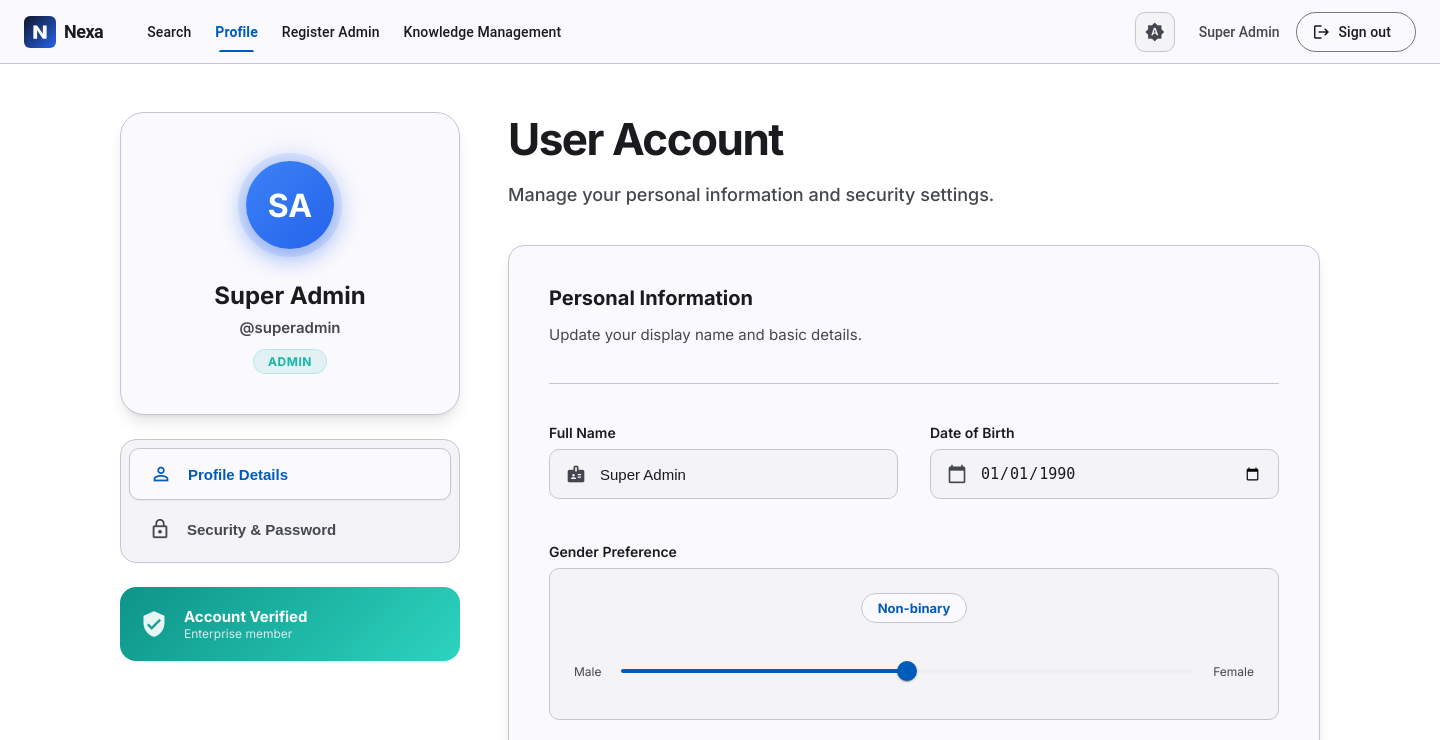
Profile Management › mismatched new and confirm passwords shows a validation error
Click the button "Security & Password". click: (290, 529)
box: [129,504,451,554]
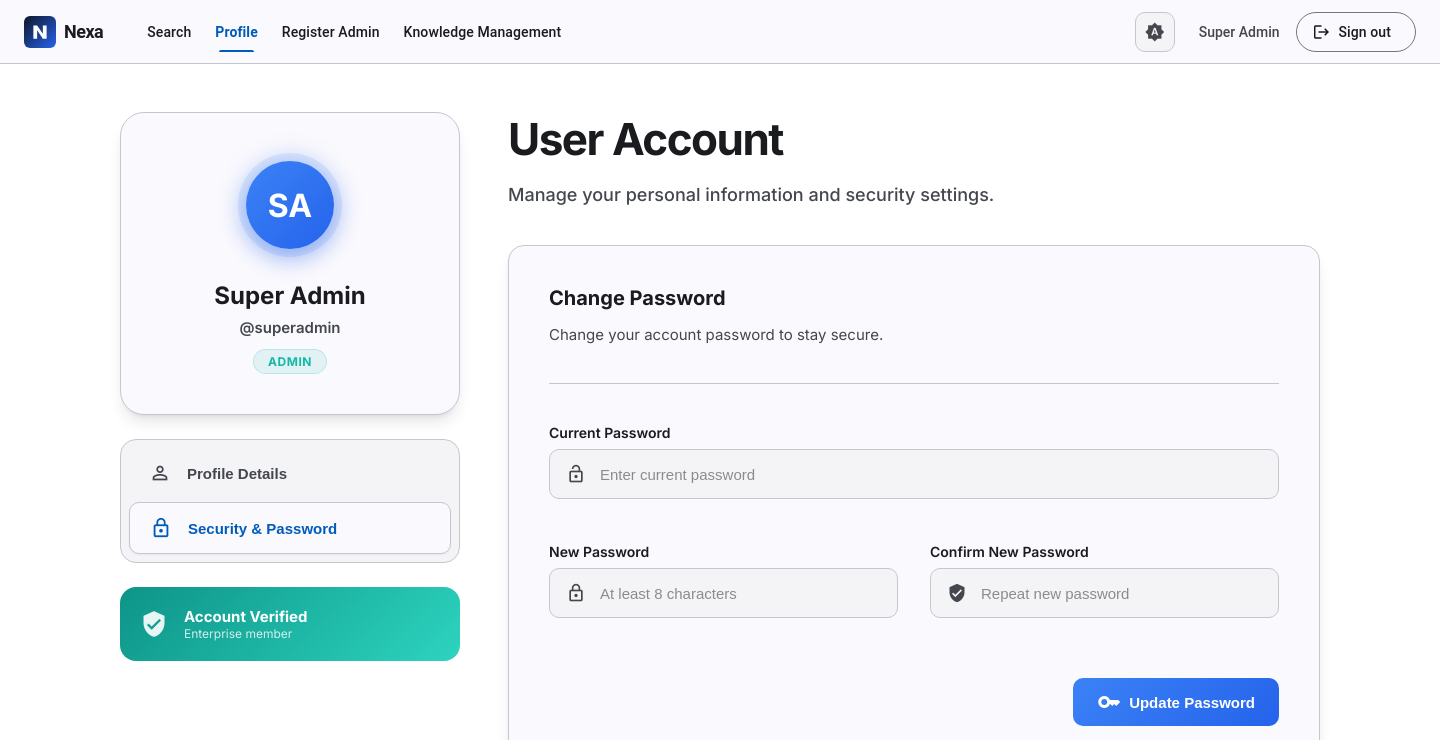
Type "superadmin123" into the password field with id "s-current". click: (930, 474)
box: [598,450,1262,498]
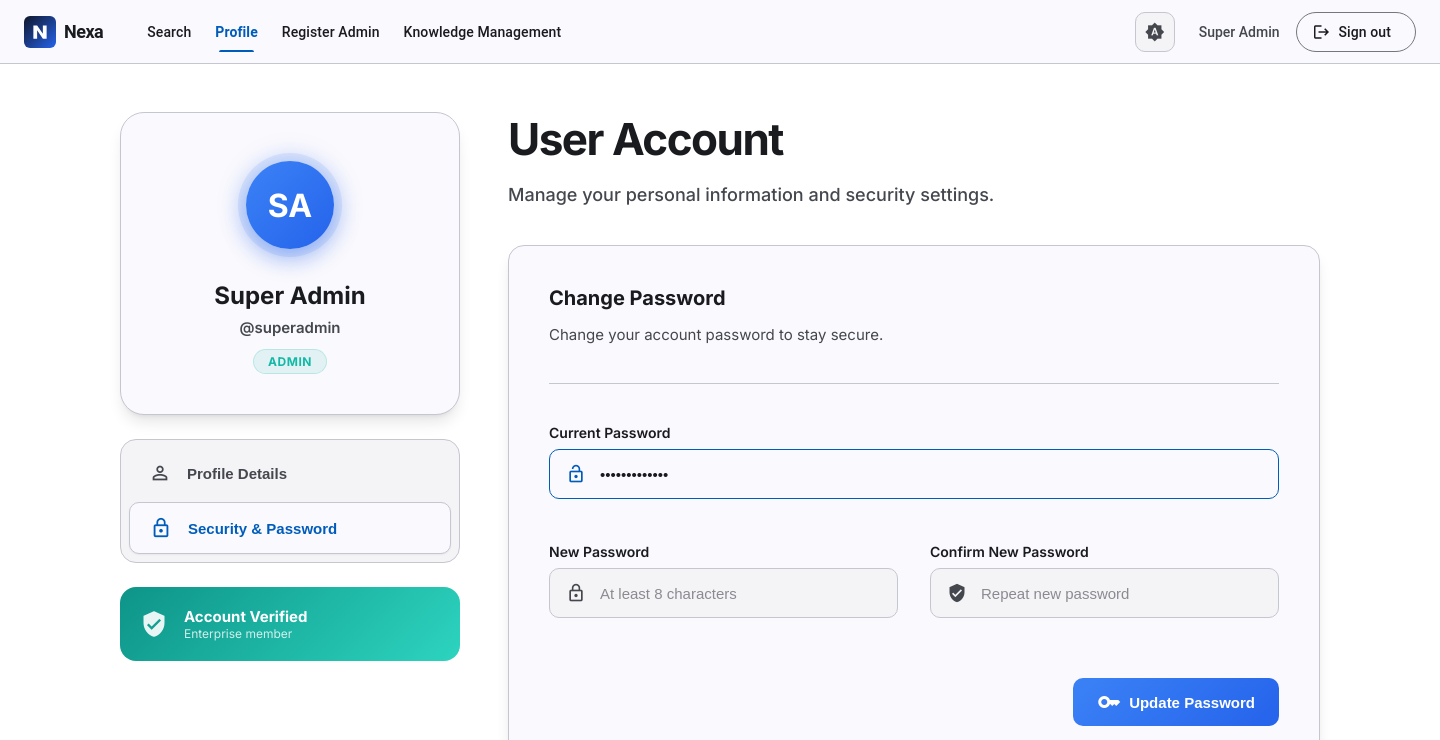
Type "newpassword1" into the password field with id "s-new". click: (740, 593)
box: [598,569,881,617]
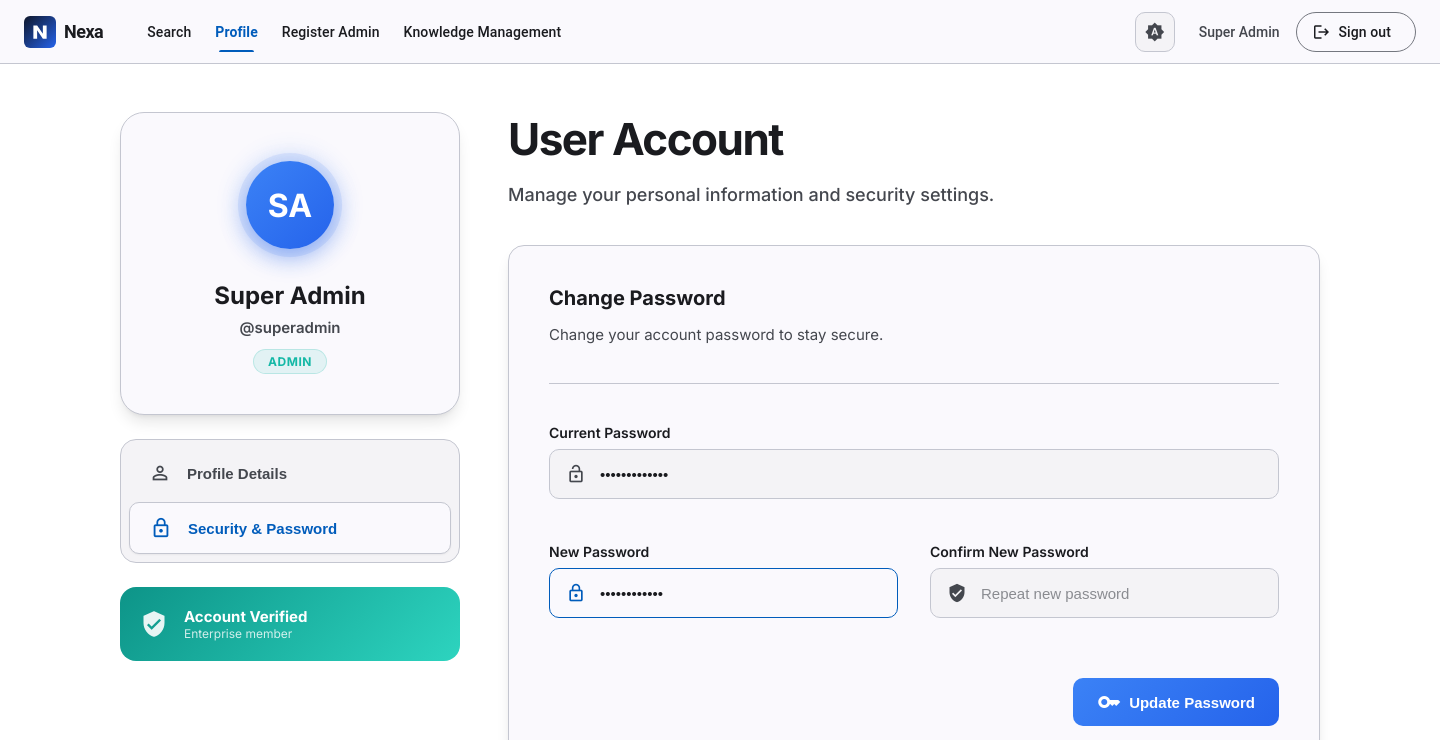
Type "differentpassword" into the password field with id "s-confirm". click: (1121, 593)
box: [979,569,1262,617]
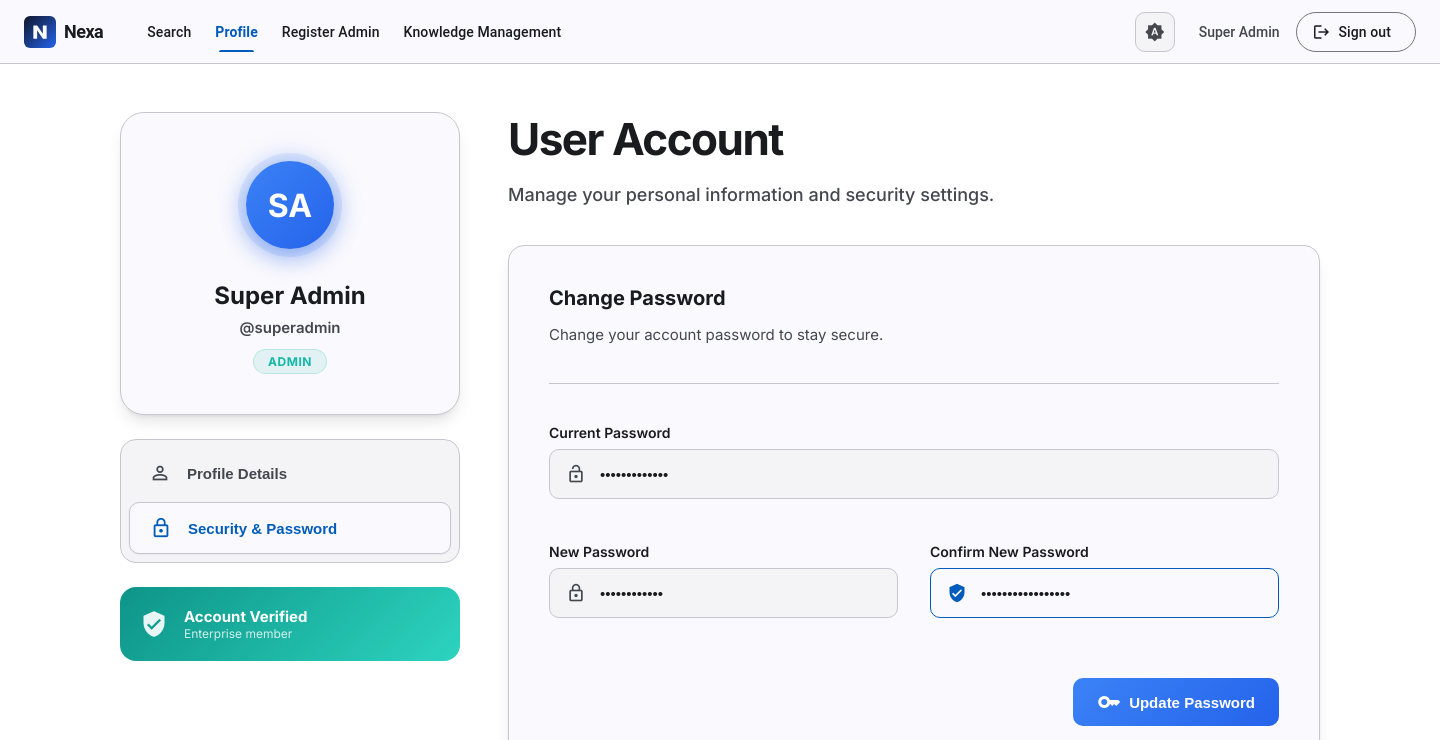
Click the button "Update Password". click: (1176, 702)
box: [1073,678,1279,726]
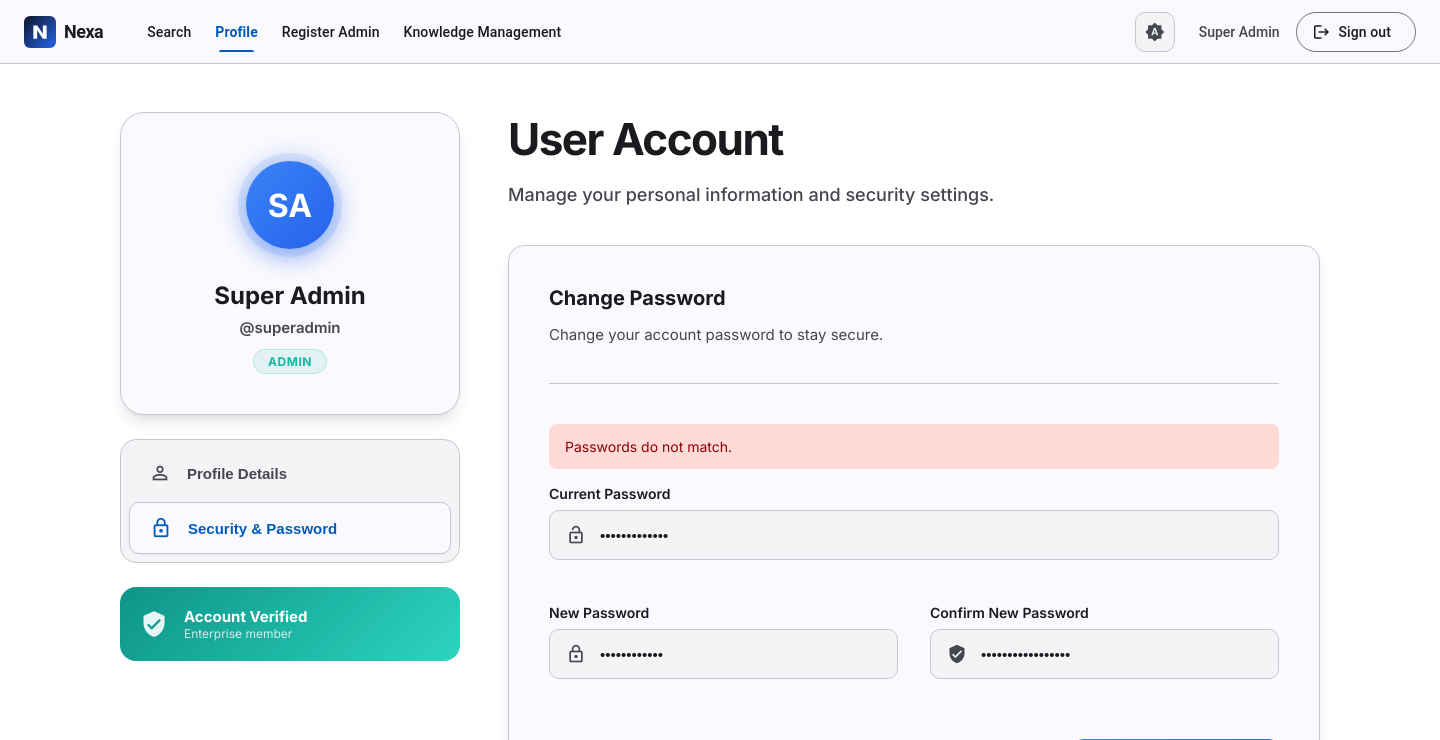
Result: the text "Passwords do not match" is shown at [565,438,732,455]
